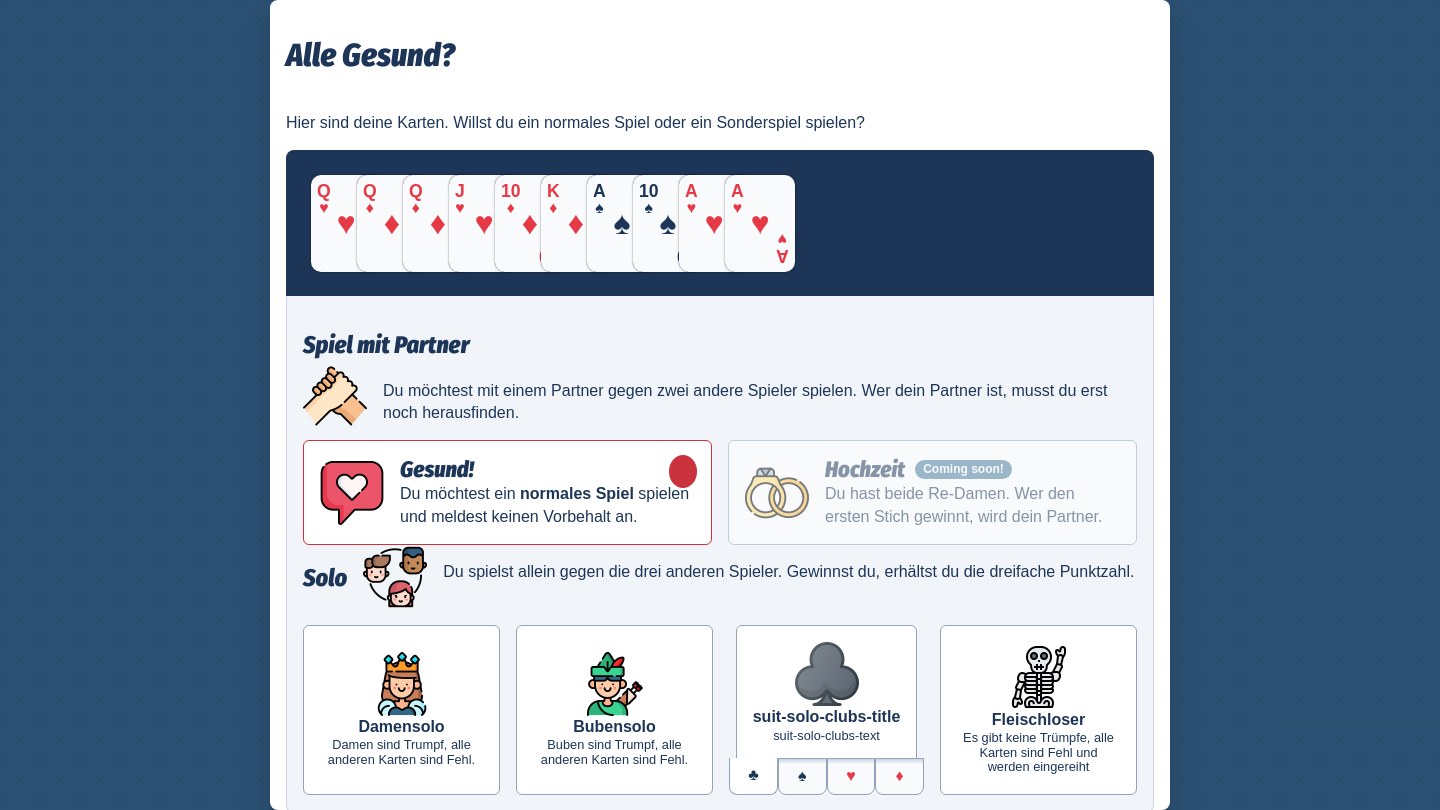
Reservations.vue › should render 'healthy' button text if player selects normal game
Click the element with id "ace-solo-option" at [1038, 710], box [940,625,1137,795]
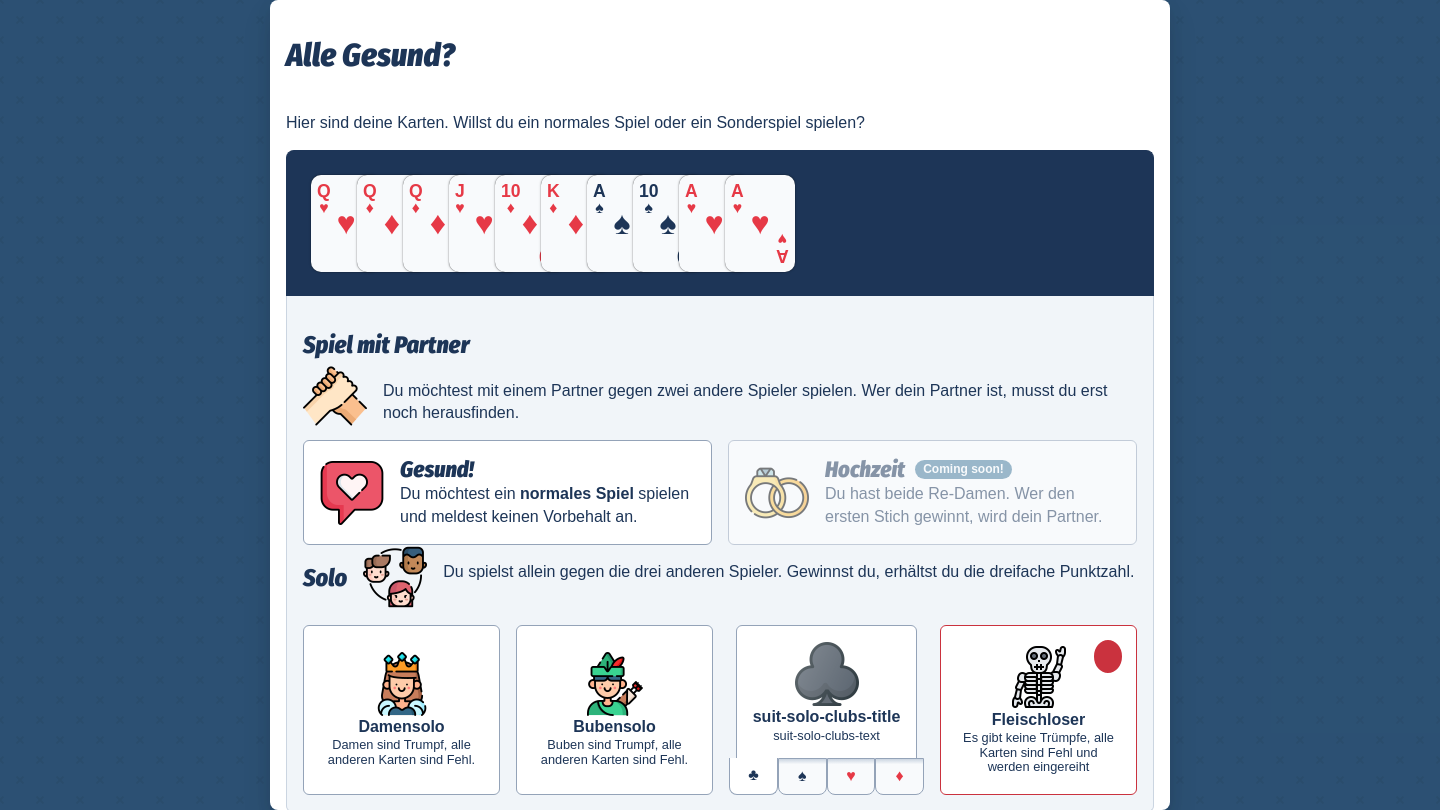
Click the element with id "healthy-option" at [508, 493], box [303,440,712,545]
(page scrolled)
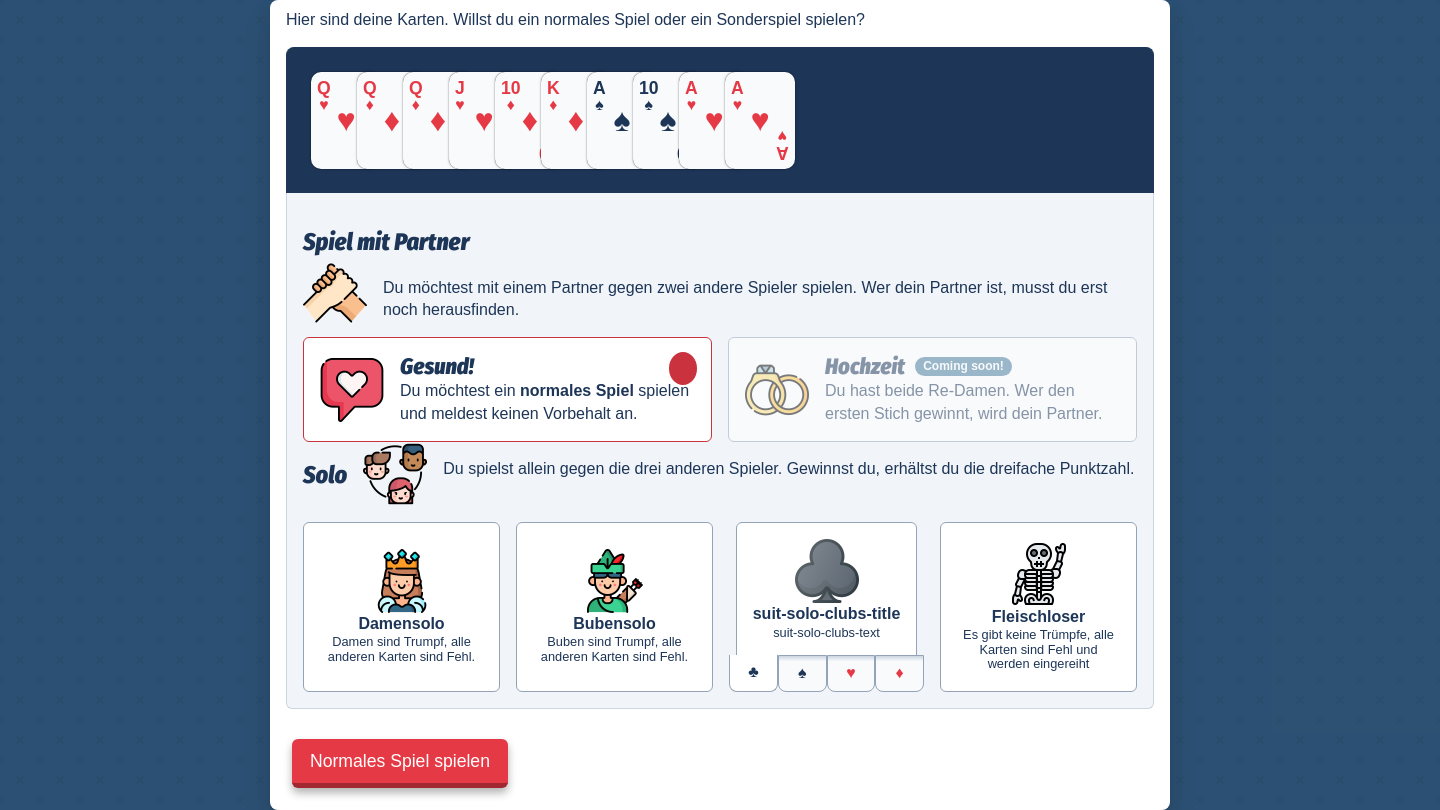
Expected: the button "Normales Spiel spielen" is shown, [292,739,508,788]
